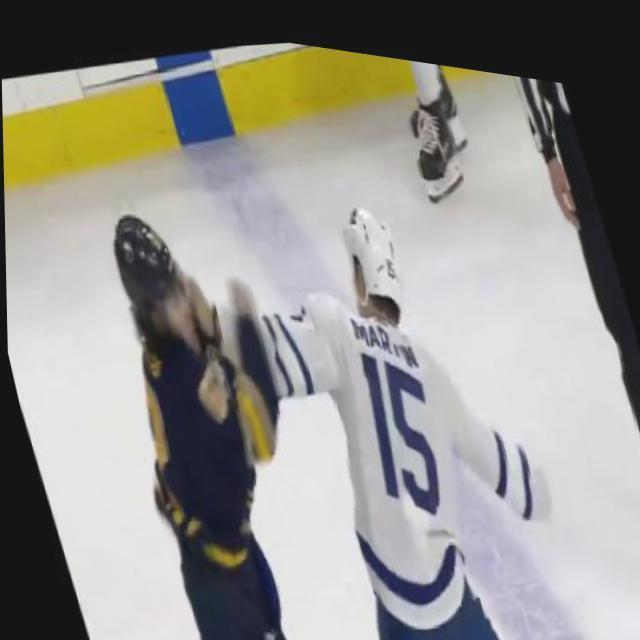fight: (62, 103, 587, 640)
